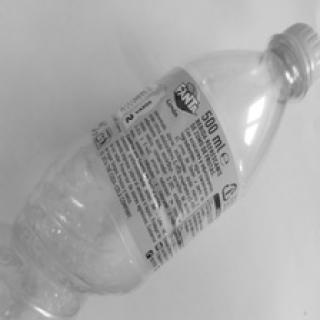plastic_bottles: (18, 21, 320, 319)
